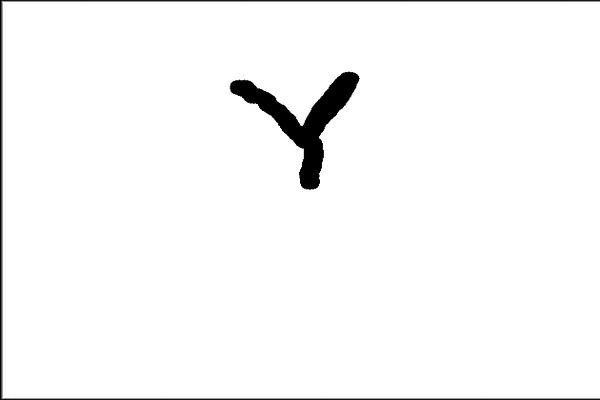Y: (220, 58, 379, 196)
